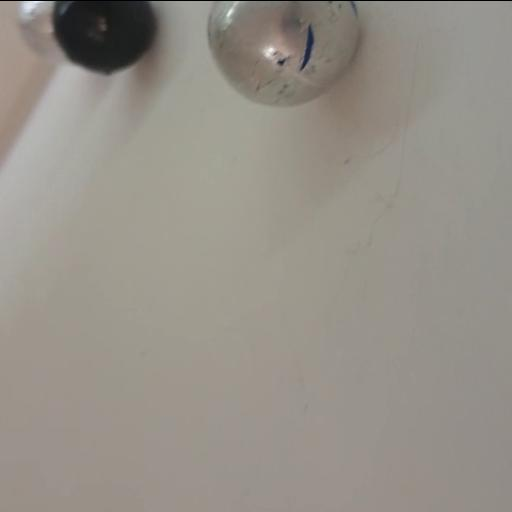alive: (208, 2, 362, 108), (14, 0, 70, 58)
dead: (53, 0, 155, 74)
